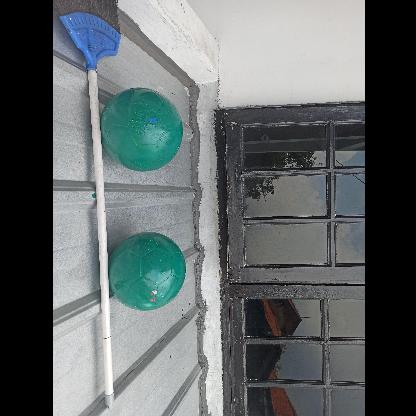green_ball: (101, 90, 183, 172), (106, 233, 186, 313)
